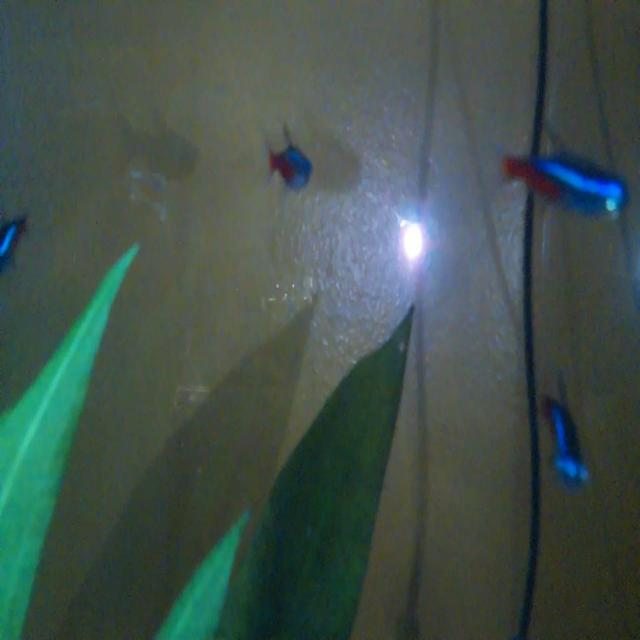fish: (494, 128, 629, 237), (256, 120, 323, 198)
